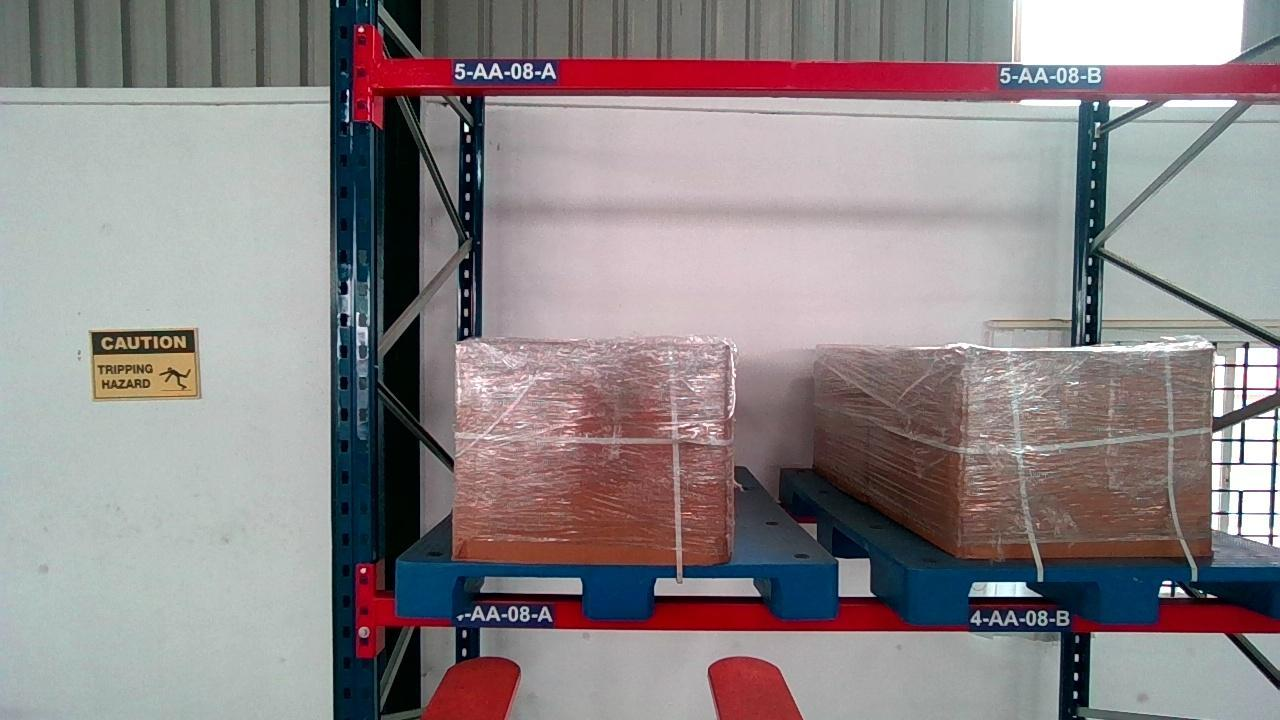h_rack: (378, 595, 1275, 634), (375, 61, 1275, 91)
small_pallet: (395, 562, 840, 617), (917, 562, 1280, 620)
